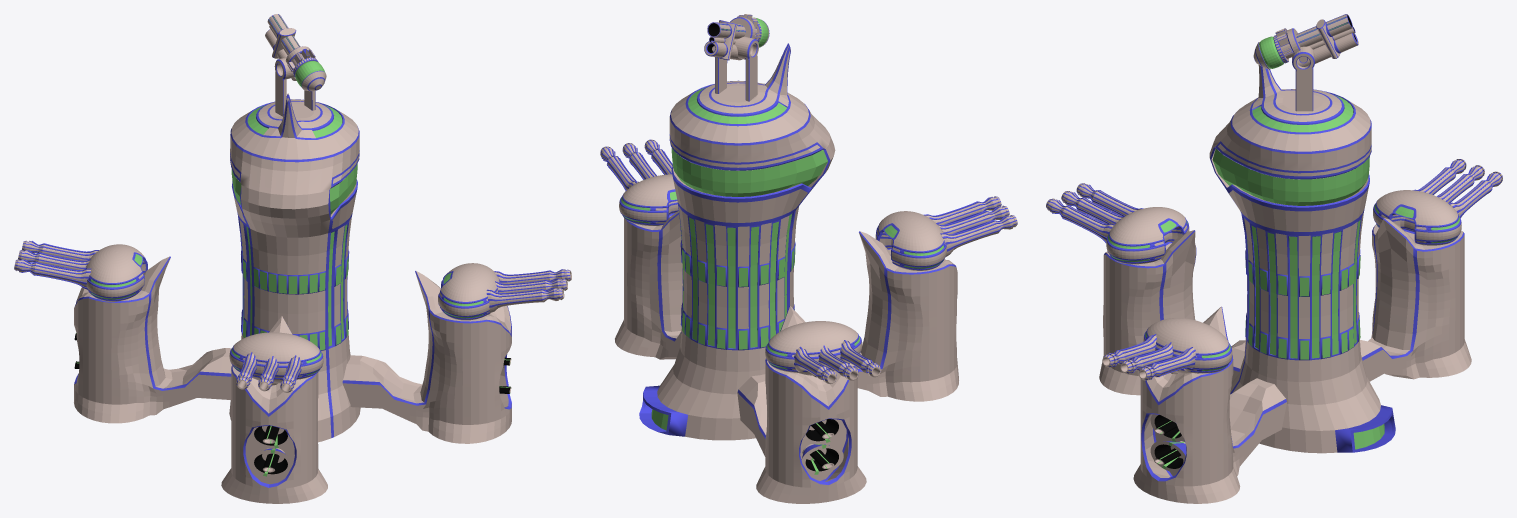
The model's file is Quartier_defense_MC.fbx.
3 renders of one model, left to right at view 1: azimuth 30°, elevation 25°; view 2: azimuth 150°, elevation 25°; view 3: azimuth 270°, elevation 25°, orthographic. The views are drawn at different scales.
Visible parts, largest first — view 1: Sphere.000, Sphere.008, Sphere.015, Sphere.019, Sphere.001, Sphere.003; view 2: Sphere.000, Sphere.019, Sphere.008, Sphere.015, Sphere.001, Sphere.003; view 3: Sphere.000, Sphere.019, Sphere.008, Sphere.015, Sphere.001, Sphere.003.
Part boxes in pixels (bbox=[...]): Sphere.000: bbox=[74, 93, 511, 503]; Sphere.008: bbox=[14, 240, 147, 301]; Sphere.015: bbox=[438, 263, 571, 320]; Sphere.019: bbox=[229, 332, 323, 392]; Sphere.001: bbox=[265, 14, 326, 91]; Sphere.003: bbox=[274, 57, 315, 116]; Sphere.000: bbox=[615, 43, 958, 503]; Sphere.019: bbox=[875, 196, 1017, 270]; Sphere.008: bbox=[765, 321, 880, 383]; Sphere.015: bbox=[600, 139, 678, 225]; Sphere.001: bbox=[704, 14, 769, 60]; Sphere.003: bbox=[715, 36, 758, 101]; Sphere.000: bbox=[1099, 56, 1471, 503]; Sphere.019: bbox=[1046, 183, 1189, 264]; Sphere.008: bbox=[1373, 159, 1502, 245]; Sphere.015: bbox=[1102, 318, 1232, 380]; Sphere.001: bbox=[1253, 14, 1358, 69]; Sphere.003: bbox=[1292, 46, 1314, 111].
Bounding box in the file's own units: 6537 × 5791 × 5902.
